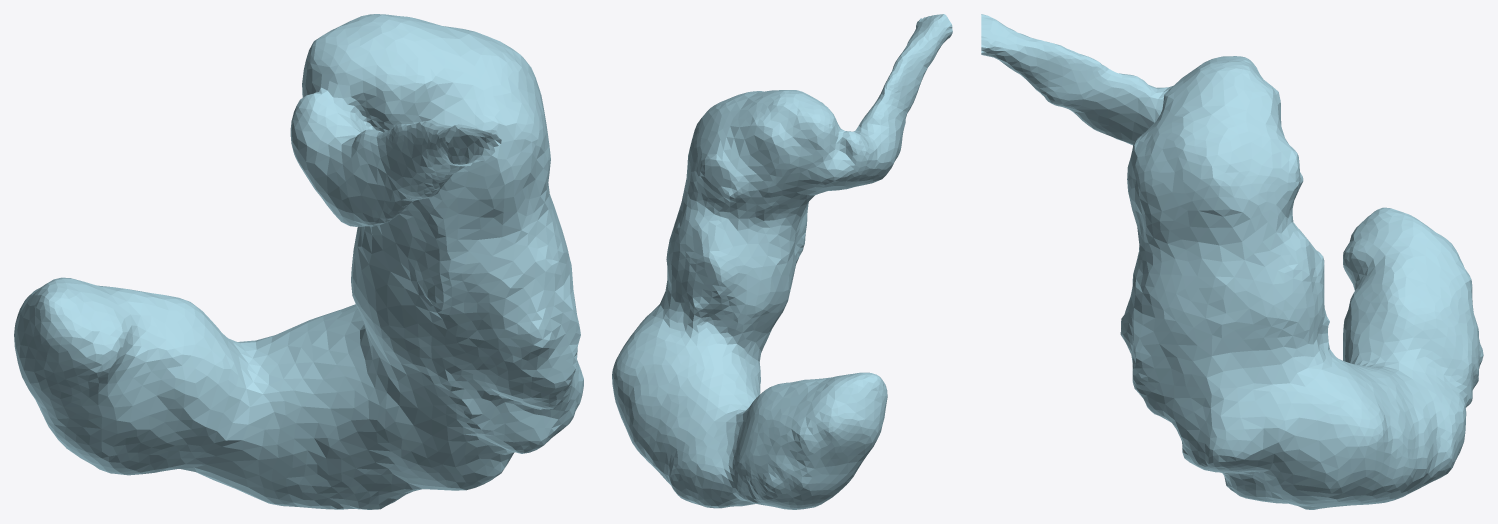
The model's file is stomach.obj.
3 views of the same model, side by side, from view 1: azimuth 30°, elevation 25°; view 2: azimuth 150°, elevation 25°; view 3: azimuth 270°, elevation 25° (orthographic). The views are drawn at different scales.
Parts seen in each view (by area): view 1: grp1; view 2: grp1; view 3: grp1.
Boxes of the visible parts, x1=… form: grp1: x1=14, y1=14, x2=583, y2=509; grp1: x1=612, y1=14, x2=952, y2=509; grp1: x1=981, y1=14, x2=1483, y2=509.
Bounding box in the file's own units: 130 × 160 × 163.
